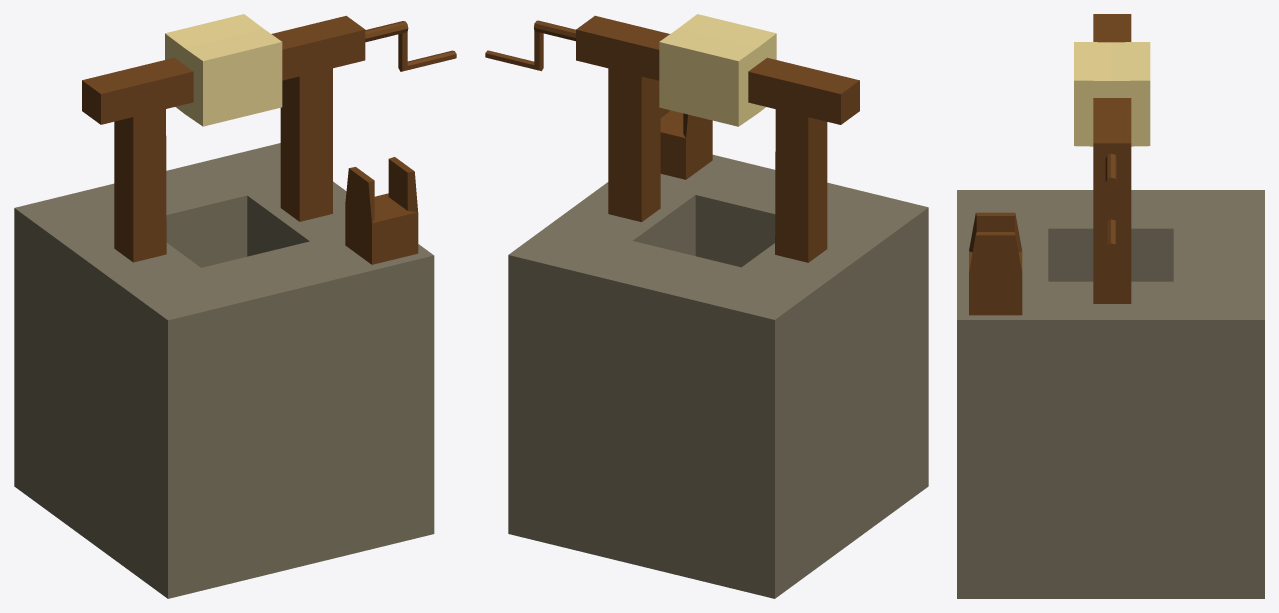
The model's file is Pit.fbx.
The picture shows the model from 3 angles, left to right: view 1: azimuth 30°, elevation 25°; view 2: azimuth 150°, elevation 25°; view 3: azimuth 270°, elevation 25°; orthographic projection.
Visible parts, largest first — view 1: Cube.001; view 2: Cube.001; view 3: Cube.001.
Boxes of the visible parts, <box> form: Cube.001: <box>14,14,456,598</box>; Cube.001: <box>485,14,928,598</box>; Cube.001: <box>957,14,1264,598</box>.
Size of the model in its own units: 1098 by 1363 by 804.
